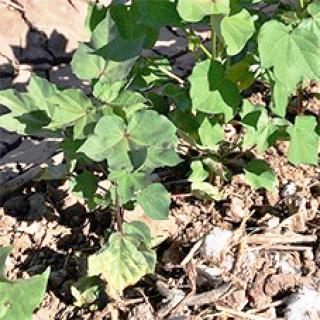wilt: (88, 237, 144, 295)
